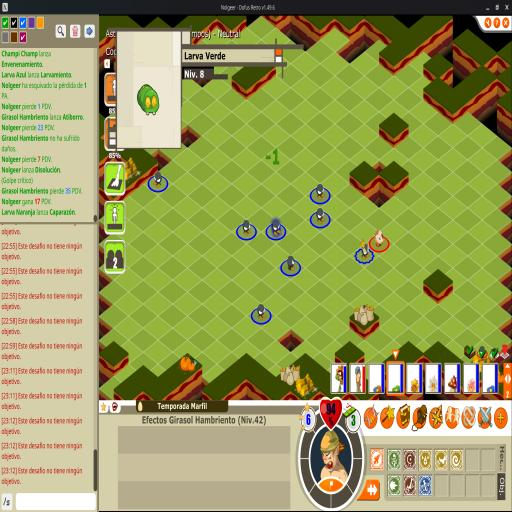Enemigos: (359, 238, 369, 261), (316, 208, 326, 225), (287, 254, 296, 272), (242, 220, 252, 236), (272, 220, 282, 236), (316, 184, 326, 200), (257, 304, 267, 320), (153, 171, 162, 188)
Personaje: (374, 228, 384, 248)
